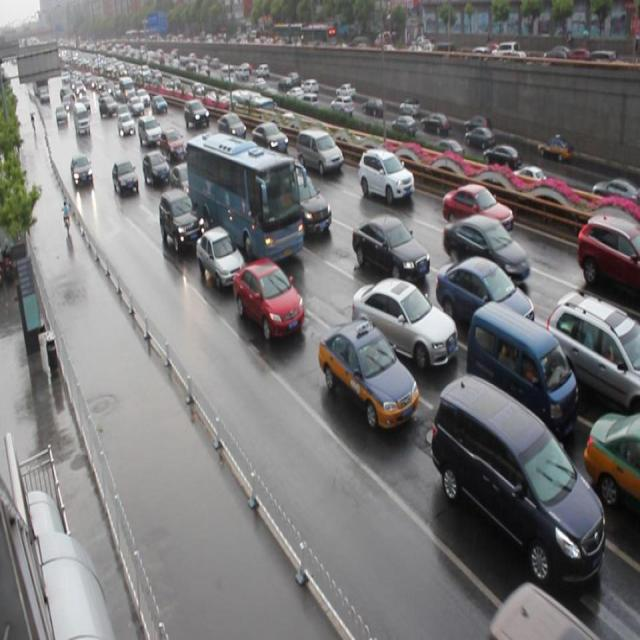car: (542, 287, 640, 411), (317, 318, 419, 427), (351, 276, 456, 372), (434, 253, 532, 337), (582, 411, 640, 518), (442, 214, 529, 283), (231, 256, 304, 338), (574, 210, 640, 300), (351, 214, 429, 281), (441, 181, 512, 236), (356, 147, 414, 203), (196, 224, 246, 288), (158, 188, 203, 252), (286, 173, 331, 236), (252, 120, 288, 157), (111, 158, 140, 196), (143, 150, 170, 185), (170, 162, 193, 200), (217, 110, 246, 140)
truck: (430, 374, 604, 584), (464, 298, 576, 429), (295, 127, 343, 175)
van: (186, 132, 302, 264)
